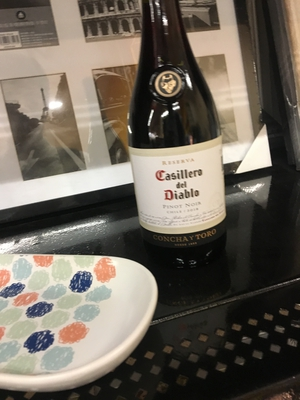casillero del diablo pinot noir: (122, 8, 237, 268)
